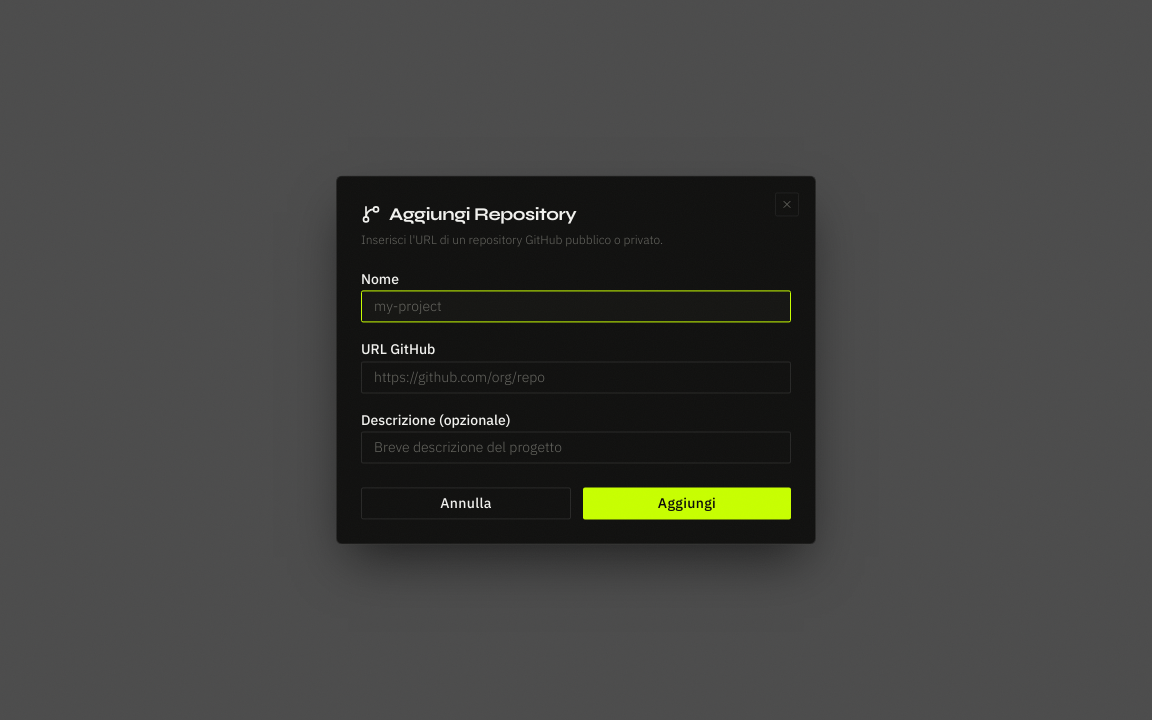
Test: AddRepositoryModal › blocks submission and shows error when name is empty
Click the button "Aggiungi" at (687, 504), box [583,488,791,520]
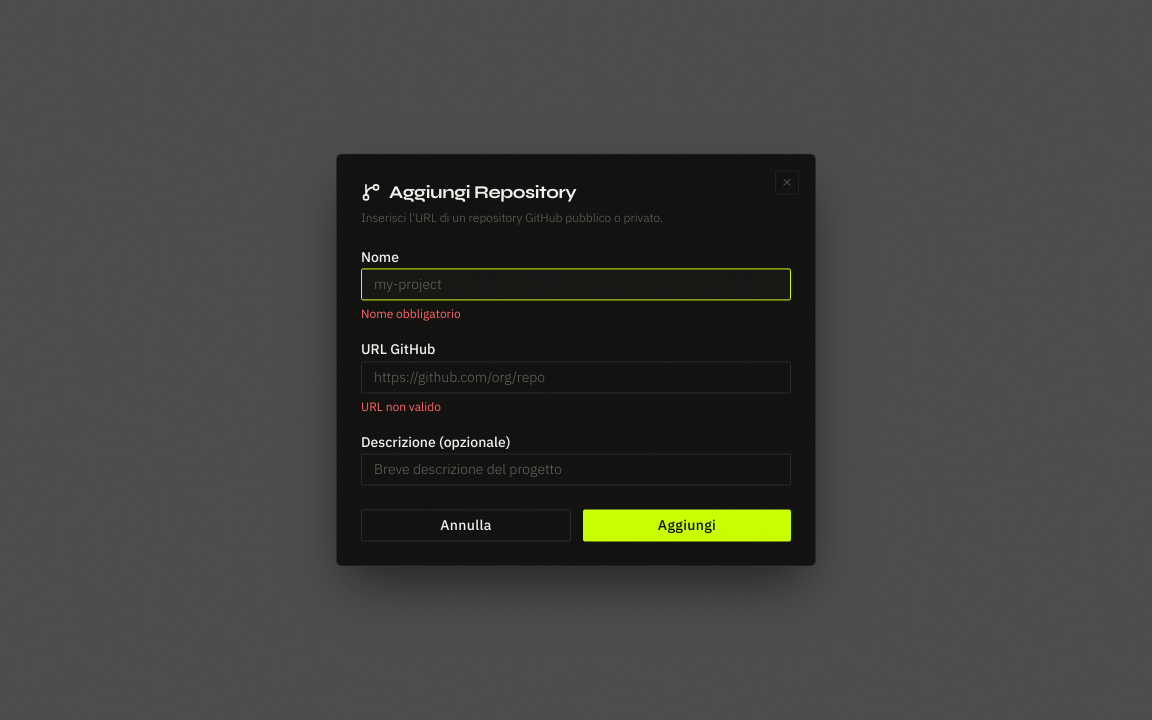
Expected: the text "Nome obbligatorio" is shown, [361,307,461,322]
